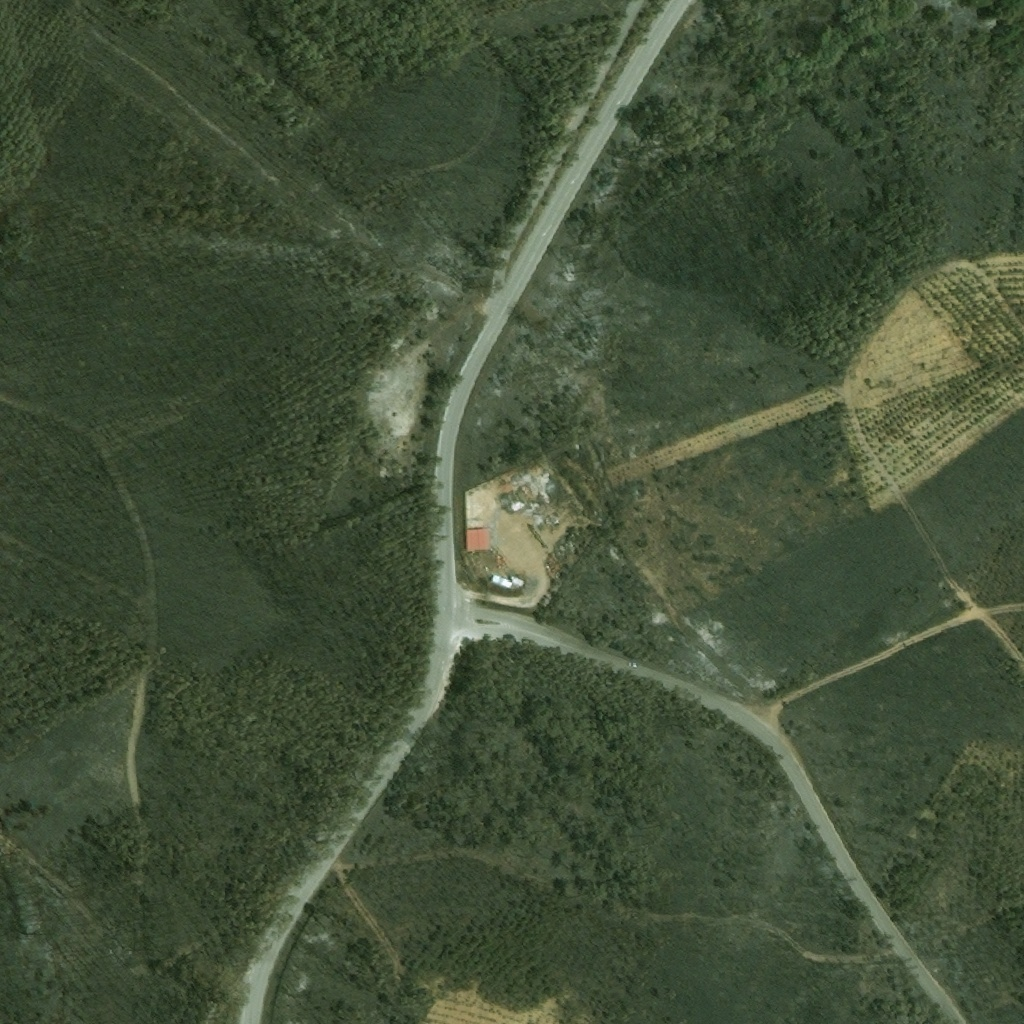0 no-damage: (464, 530, 487, 553), (488, 575, 523, 590)
